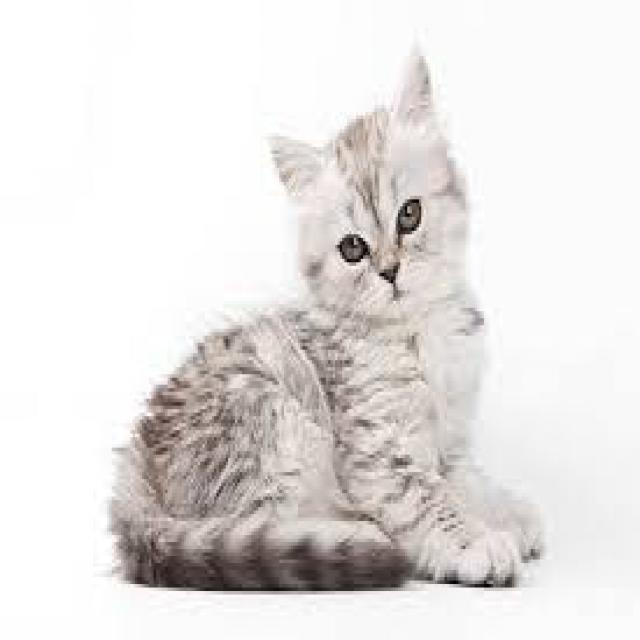Cat: (103, 45, 548, 602)
